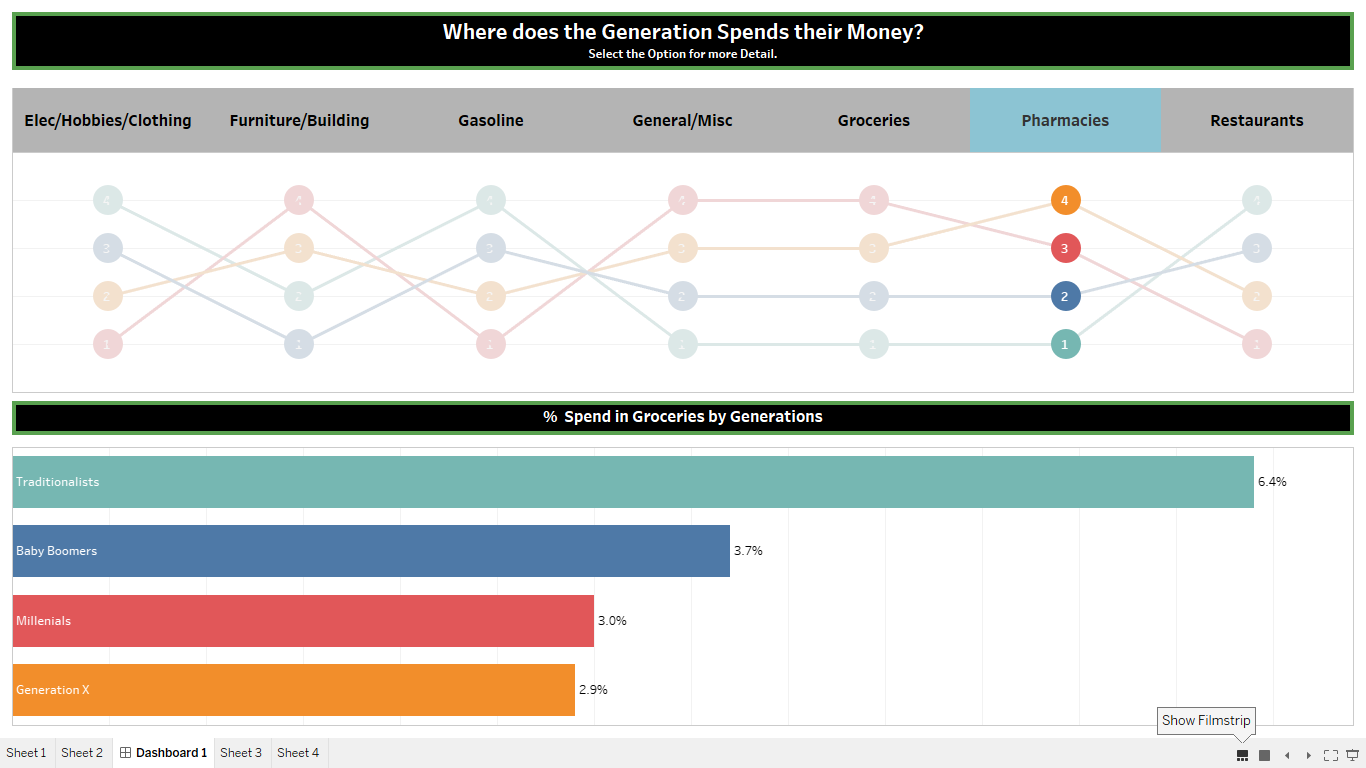

Layout of this report page (visuals, bound fields, positions):
{"tool":"tableau","page":{"name":"Dashboard 1","canvas":[1000,1000],"units":"permille","ordinal":0},"visuals":[{"type":"worksheet","title":"Sheet 3","mark":"Automatic","box":[6.9,13.3,986.1,102.9]},{"type":"worksheet","title":"Sheet 1","mark":"Line","cols":["Category"],"box":[6.9,116.2,986.1,421.9]},{"type":"worksheet","title":"Sheet 4","mark":"Automatic","box":[6.9,538.1,986.1,61.5]},{"type":"worksheet","title":"Sheet 2","mark":"Bar","rows":["Category","Generation"],"cols":["% of Spending","% of Spending"],"box":[6.9,599.5,986.1,387.2]}]}

Visuals, with their boxes on the dashboard's canvas, which has no fixed pixel size, in thousandths of its width and height (x1, y1, x2, y2). These are canvas units, not pixel positions in the 1366x768 screenshot, which may show the page scaled, cropped or inside an application window:
"Sheet 3" worksheet: {"x1": 7, "y1": 13, "x2": 993, "y2": 116}
"Sheet 1" worksheet (Line marks): {"x1": 7, "y1": 116, "x2": 993, "y2": 538}
"Sheet 4" worksheet: {"x1": 7, "y1": 538, "x2": 993, "y2": 600}
"Sheet 2" worksheet (Bar marks): {"x1": 7, "y1": 600, "x2": 993, "y2": 987}
